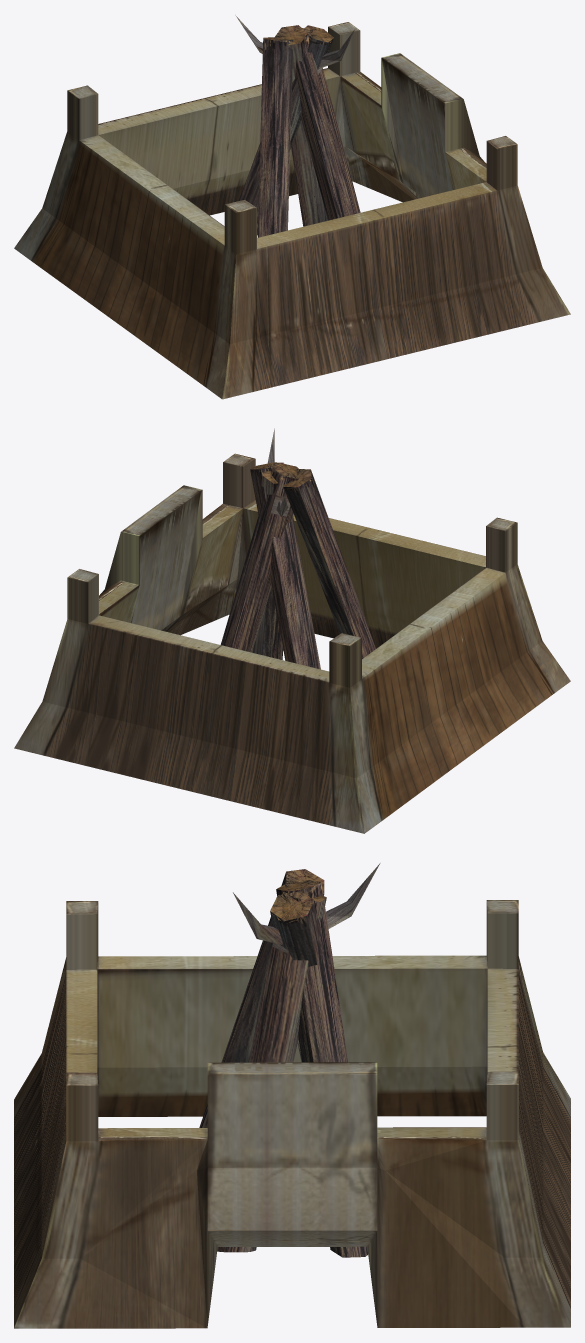
File: lumbermill.gltf
The picture shows the model from 3 angles, top to bottom: view 1: azimuth 30°, elevation 25°; view 2: azimuth 150°, elevation 25°; view 3: azimuth 270°, elevation 25°; orthographic projection. The views are drawn at different scales.
Parts seen in each view (by area): view 1: famu, shumu; view 2: famu, shumu; view 3: famu, shumu.
Boxes of the visible parts, left/top/right/bottom form: famu: left=14, top=22, right=570, bottom=399; shumu: left=235, top=15, right=360, bottom=237; famu: left=14, top=453, right=570, bottom=833; shumu: left=220, top=428, right=376, bottom=669; famu: left=14, top=900, right=570, bottom=1328; shumu: left=199, top=863, right=380, bottom=1257.
Bounding box in the file's own units: 124 × 88.92 × 124.
Materials: 2 (2 with a texture image).
